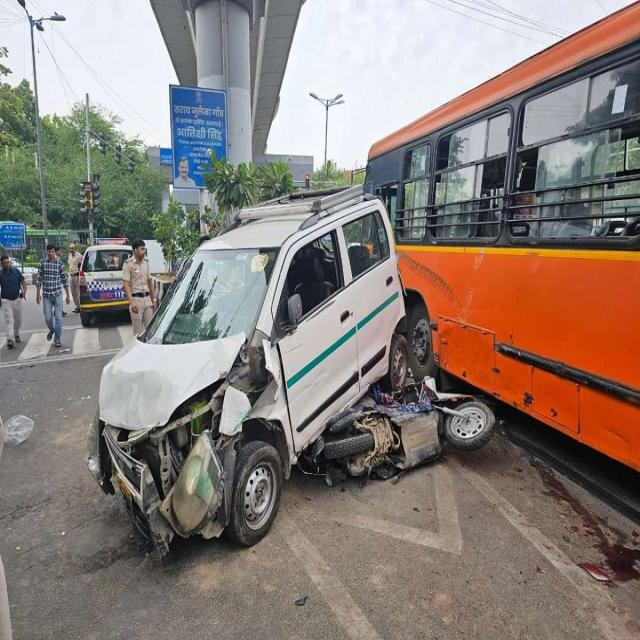accident: (89, 187, 408, 553), (299, 378, 495, 483)
bus: (366, 2, 640, 470), (79, 244, 131, 327)
